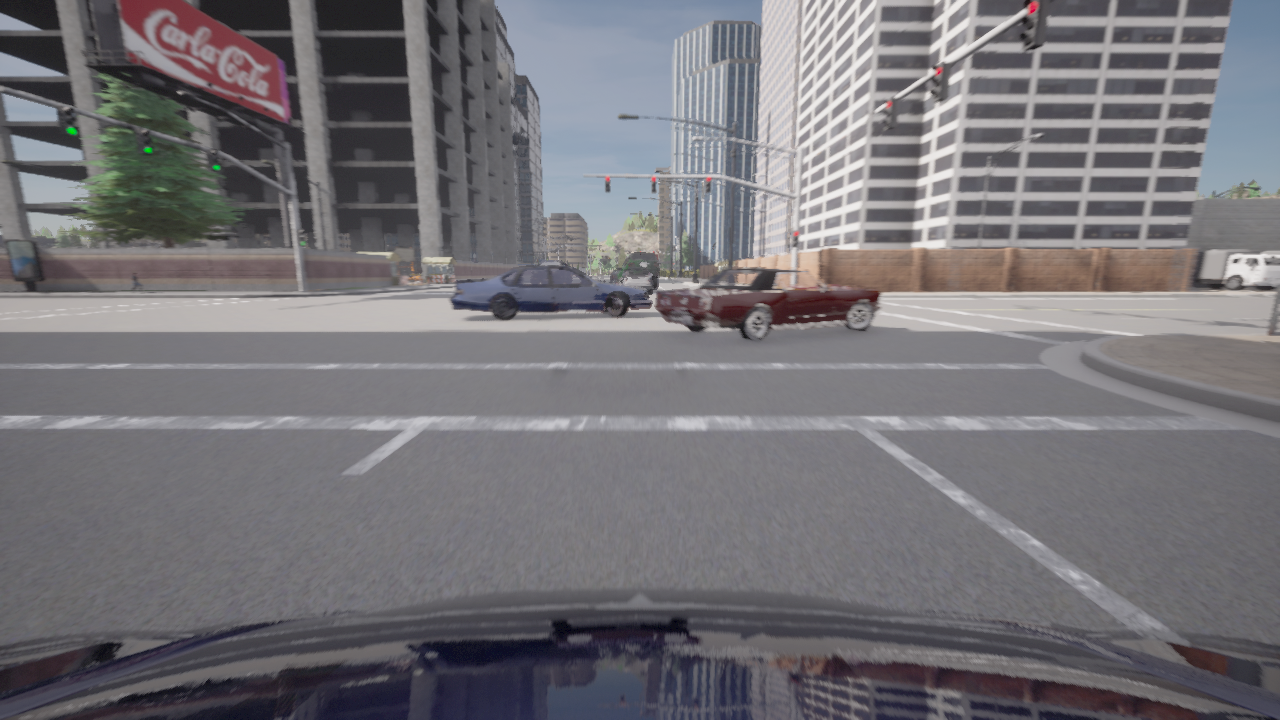cyclist: (0, 588, 1279, 719), (655, 268, 881, 342), (450, 266, 651, 319), (1192, 250, 1279, 290), (615, 253, 658, 288), (623, 267, 652, 293), (1260, 250, 1279, 287), (538, 262, 568, 266), (611, 271, 617, 280)
pedestrian: (131, 271, 142, 292)
